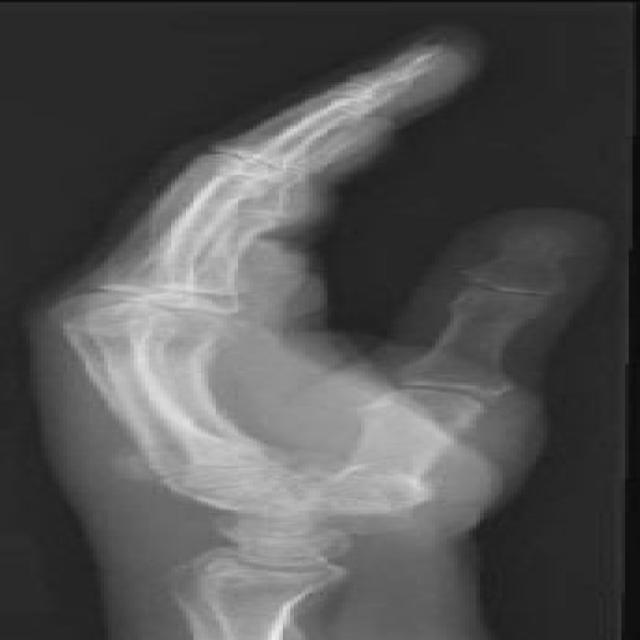Avulsion-fracture-: (102, 428, 425, 532)
